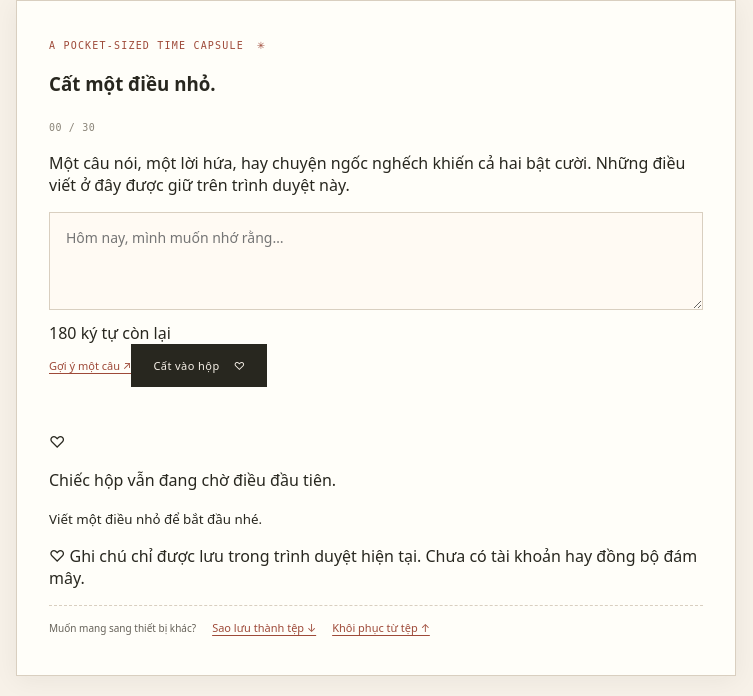
notes › adds a note, persists it in the current format, and clears the draft
expect the button "Cất vào hộp ♡" is disabled: met, box left=131, top=344, right=267, bottom=387
In the text box named "Điều muốn lưu giữ": (376, 261) left=49, top=212, right=703, bottom=310, type "  một điều nhỏ  "
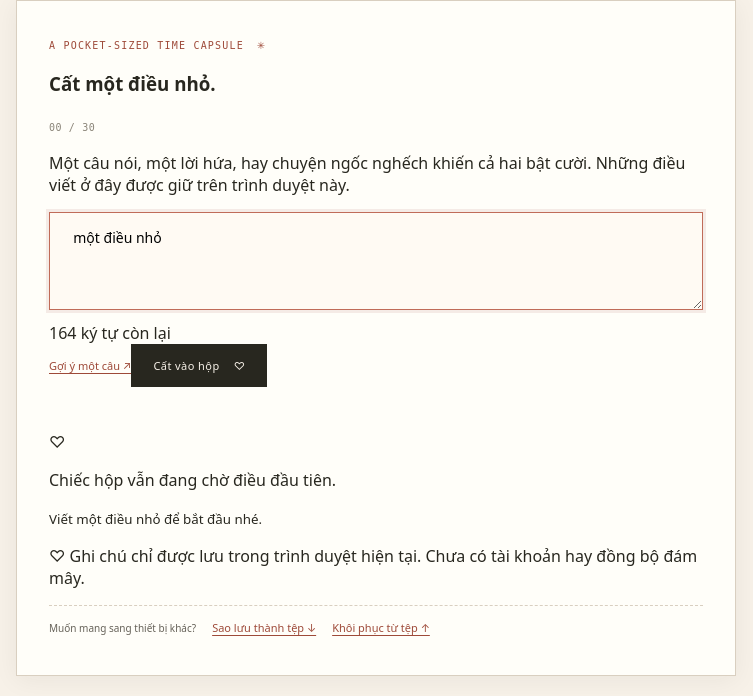
Click the button "Cất vào hộp ♡": click(199, 365) left=131, top=344, right=267, bottom=387
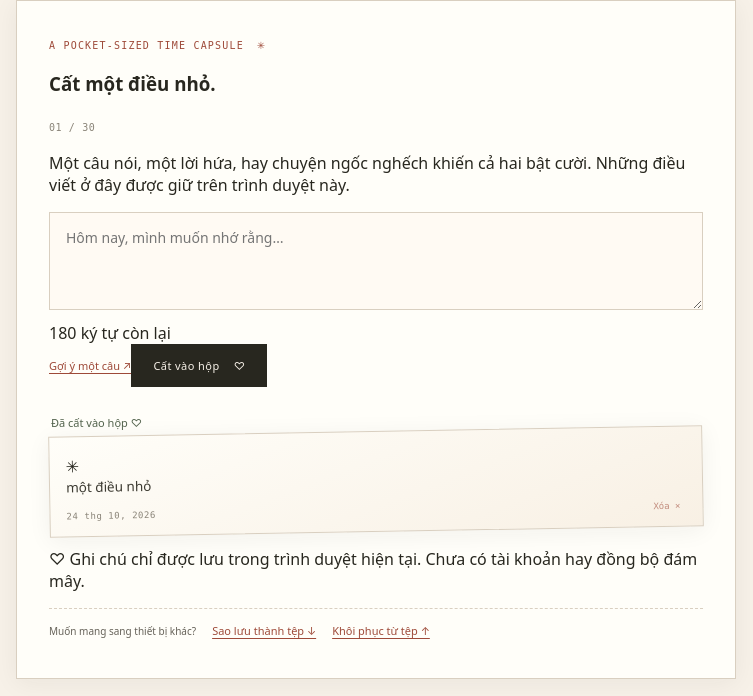
expect the text "một điều nhỏ" is shown: met, box left=66, top=477, right=152, bottom=496
expect the text box named "Điều muốn lưu giữ" is empty: met, box left=49, top=212, right=703, bottom=310
expect the message shows "Đã cất vào hộp": met, box left=51, top=415, right=142, bottom=430
